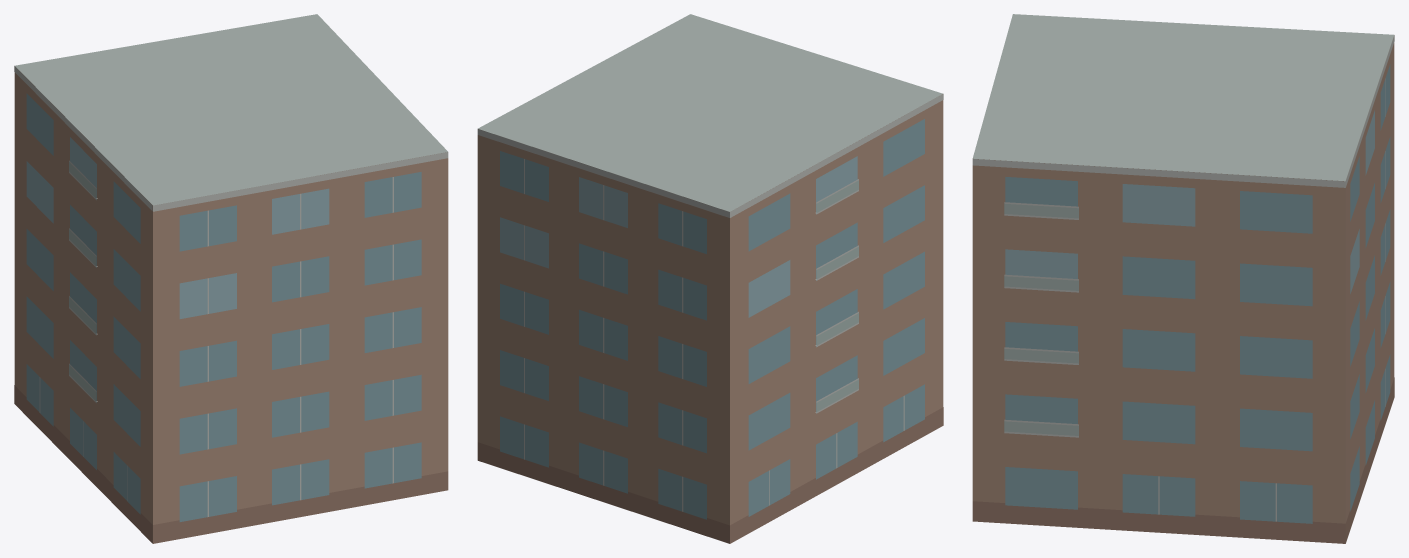
Rendered from survey-upis-32963724.glb.
The picture shows the model from 3 angles, left to right: view 1: azimuth 30°, elevation 25°; view 2: azimuth 150°, elevation 25°; view 3: azimuth 270°, elevation 25°; orthographic projection. The views are drawn at different scales.
Visible parts, largest first — view 1: survey-upis-32963724.tmp; view 2: survey-upis-32963724.tmp; view 3: survey-upis-32963724.tmp.
Part boxes in pixels (x1,y1,x2,y2): survey-upis-32963724.tmp: (14, 14, 448, 543); survey-upis-32963724.tmp: (477, 14, 943, 543); survey-upis-32963724.tmp: (972, 14, 1394, 543).
Size of the model in its own units: 13.06 by 13.2 by 13.93.
